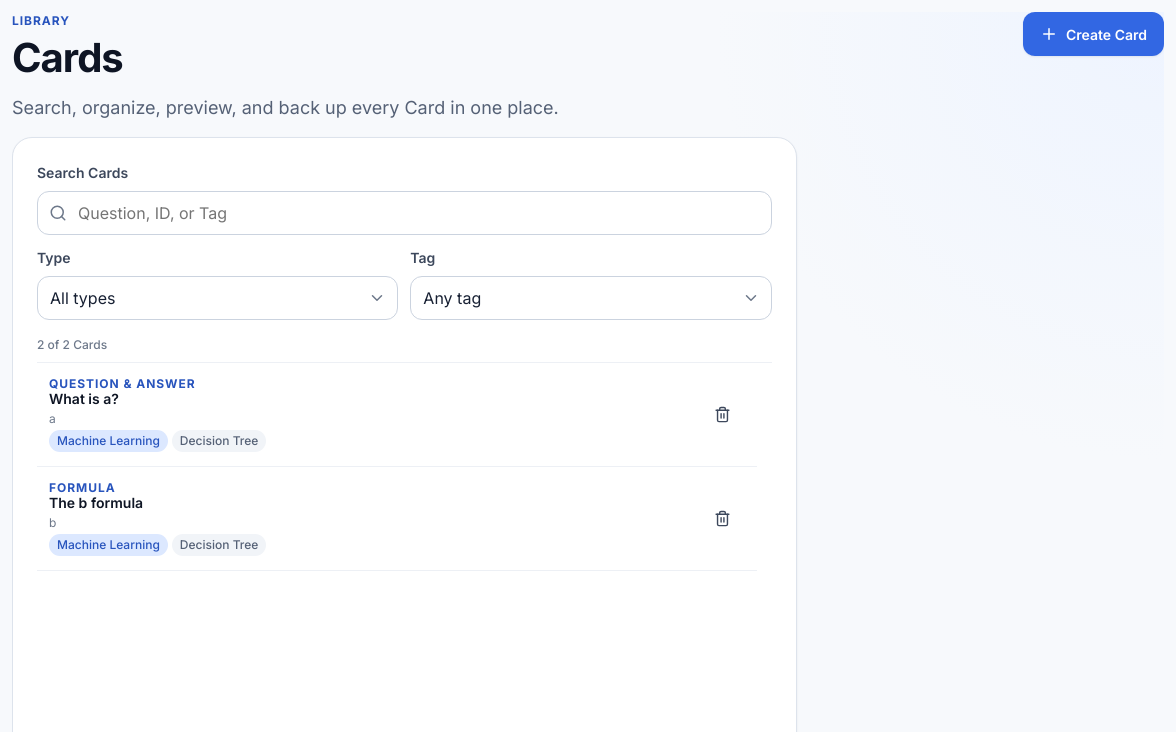
Test: when a search matches no Card, shows 0 of 2 Cards, no list and the no-match state
The image size is (1176, 732).
Type "zzz" into the search field labelled "Search Cards" at [404, 213], box [37, 191, 772, 235]
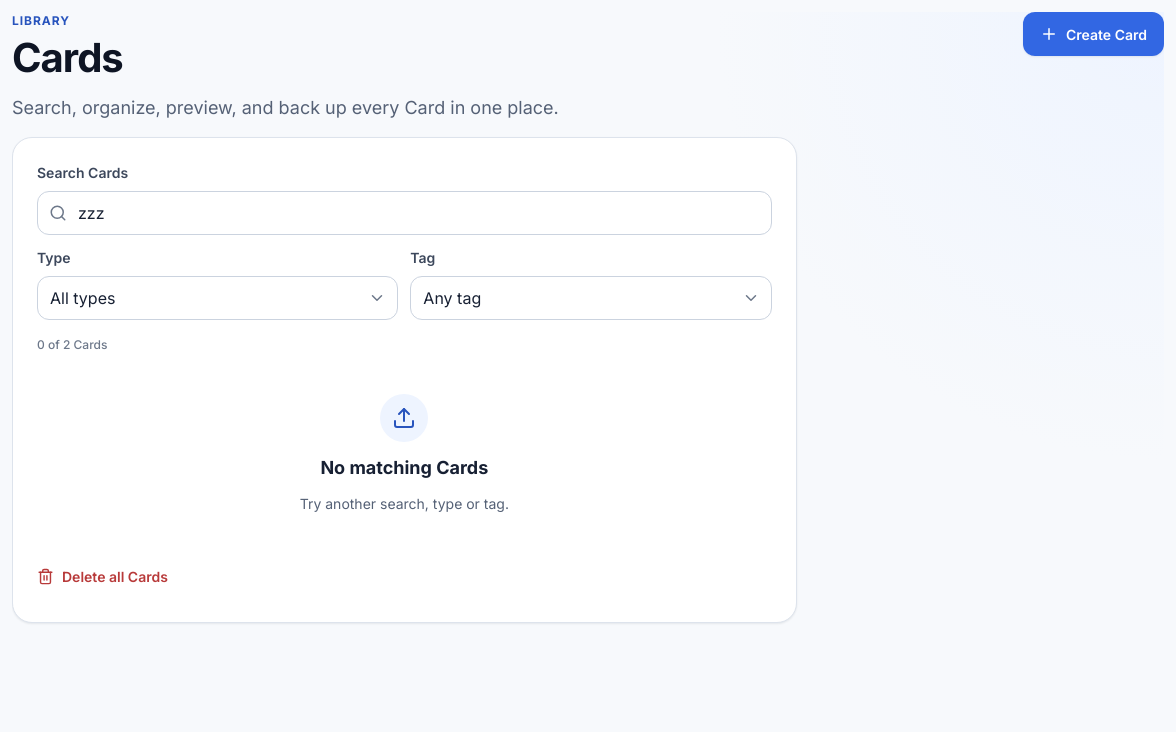
Check: the text "0 of 2 Cards" is shown, box [37, 336, 108, 354]
Check: the list is gone
Check: the heading "No matching Cards" is shown, box [320, 454, 488, 481]
